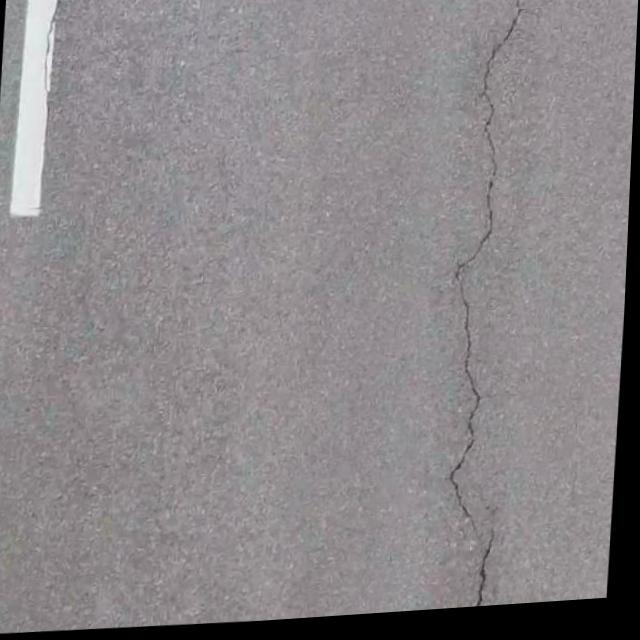Crack: (425, 0, 548, 617)
